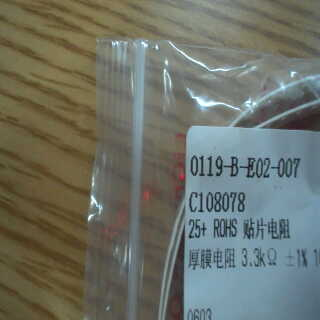3.3kO: (239, 245, 280, 271)
